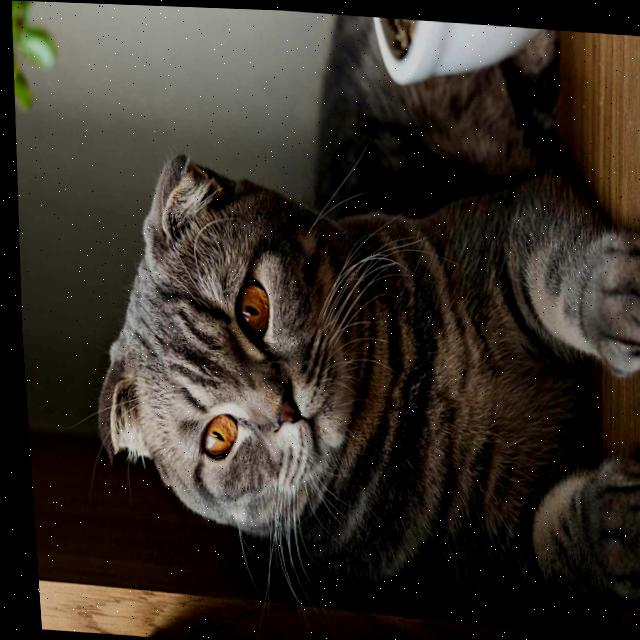Scottish Fold: (58, 2, 640, 625)
